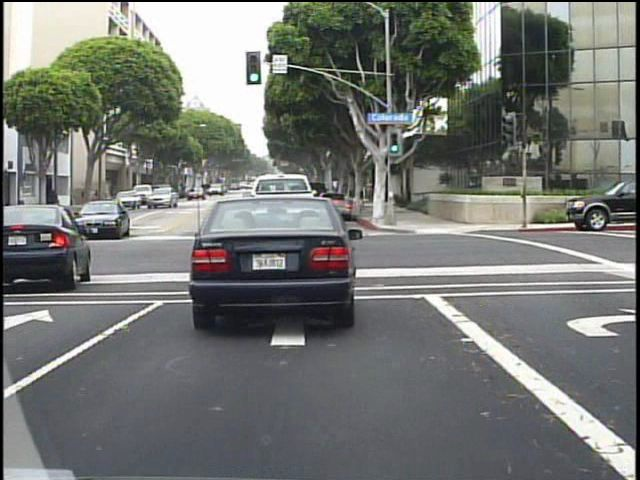person: (46, 187, 64, 220)
